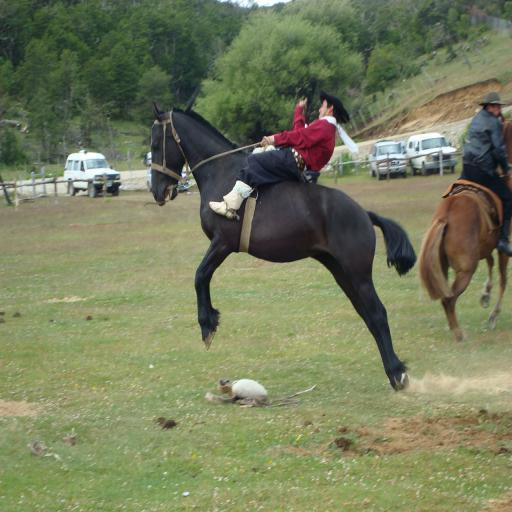horse: (149, 99, 418, 392), (415, 111, 512, 340)
